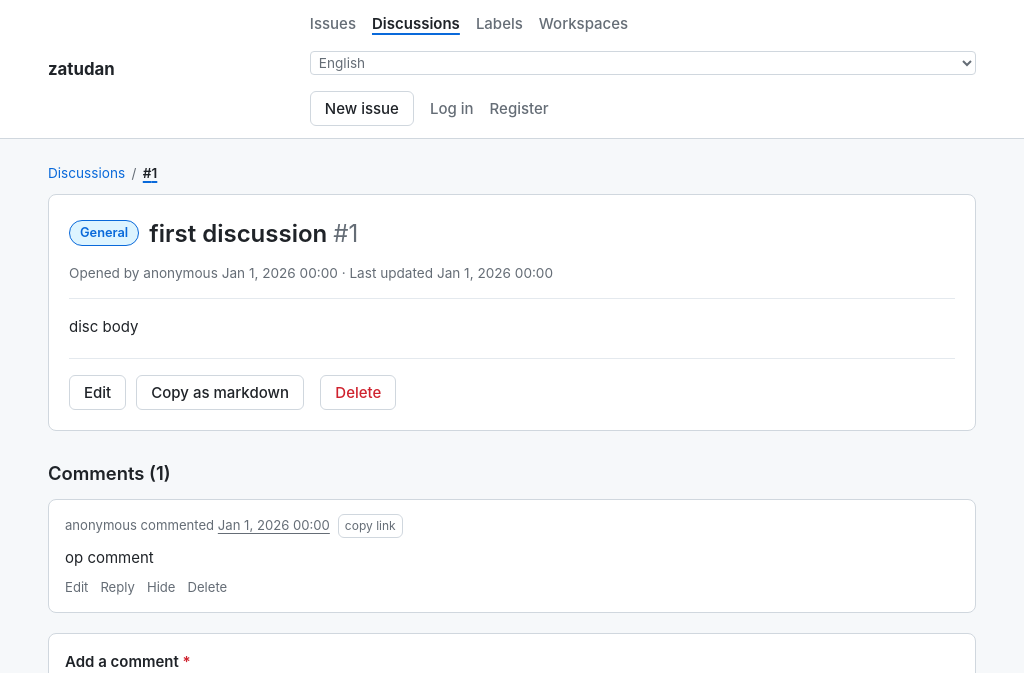
Test: route: /w/{ws}/discussions/{id} › guards a collapsed reply draft: declining keeps the text, accepting navigates
The width and height of the screenshot is (1024, 673).
Expected: the text "op comment" is shown, [65, 548, 154, 567]
Click the button "Reply". click: [118, 588]
box: [100, 578, 135, 598]
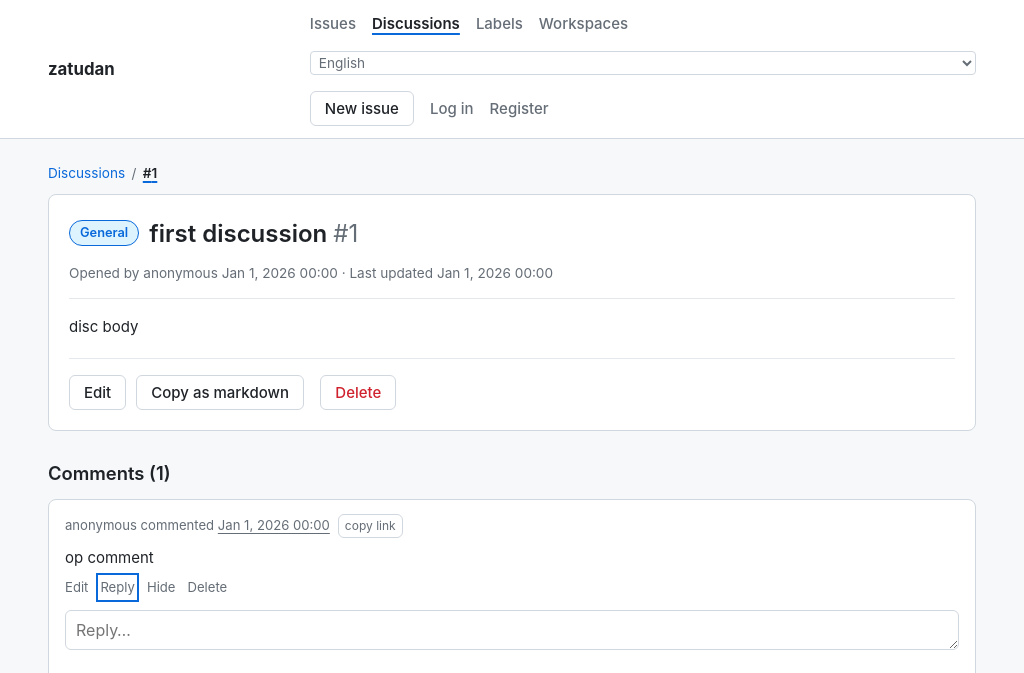
Type "collapsed draft" into the text box with placeholder "Reply…". click: [512, 630]
box: [65, 610, 959, 651]
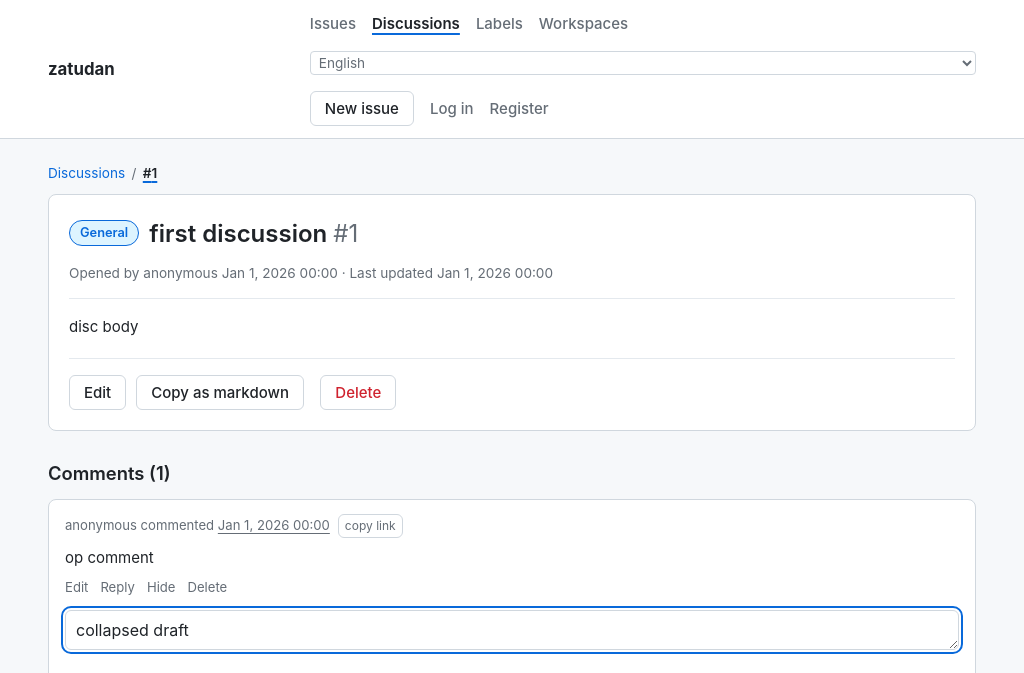
Click the 1st button "Reply". click: [118, 588]
box: [100, 578, 135, 598]
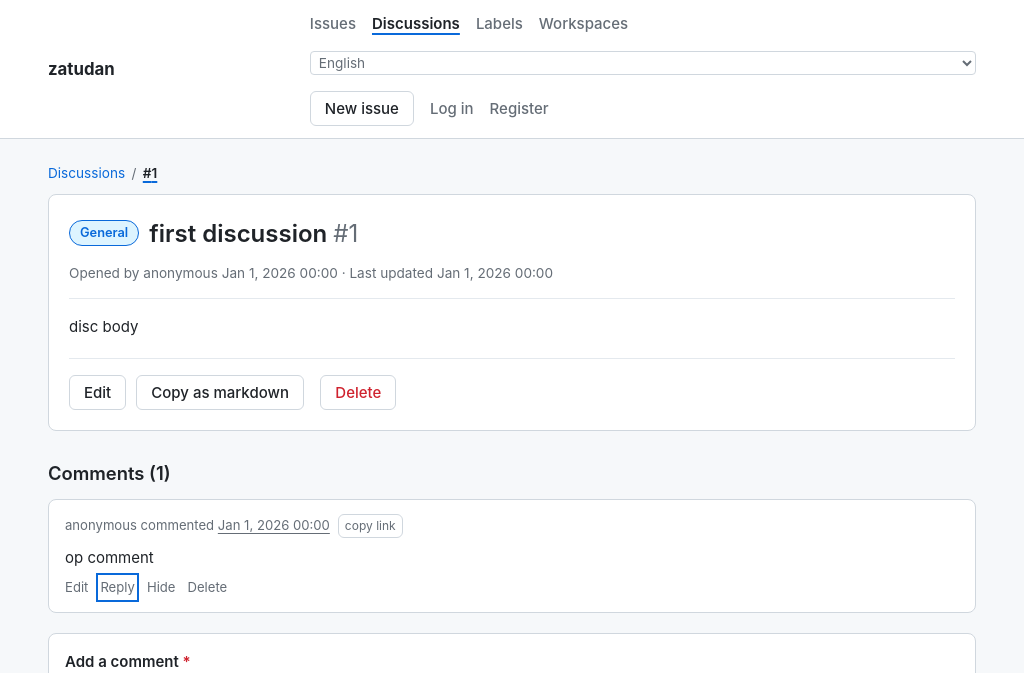
Click the link "Discussions" next to "Issues". click: [416, 24]
box: [372, 12, 460, 35]
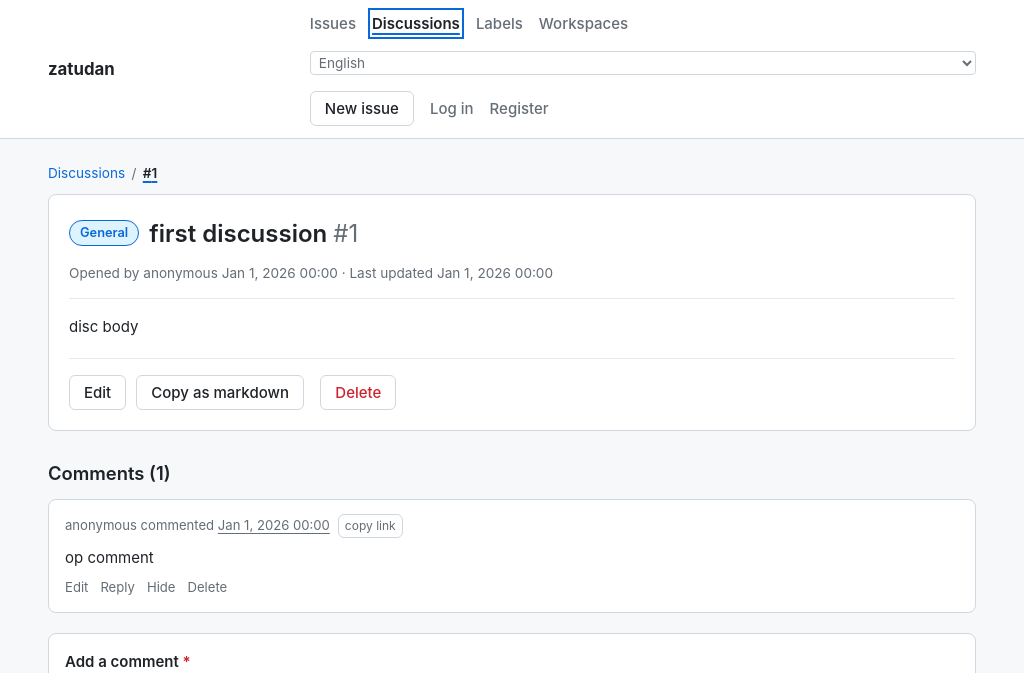
Click the button "Reply". click: [118, 588]
box: [100, 578, 135, 598]
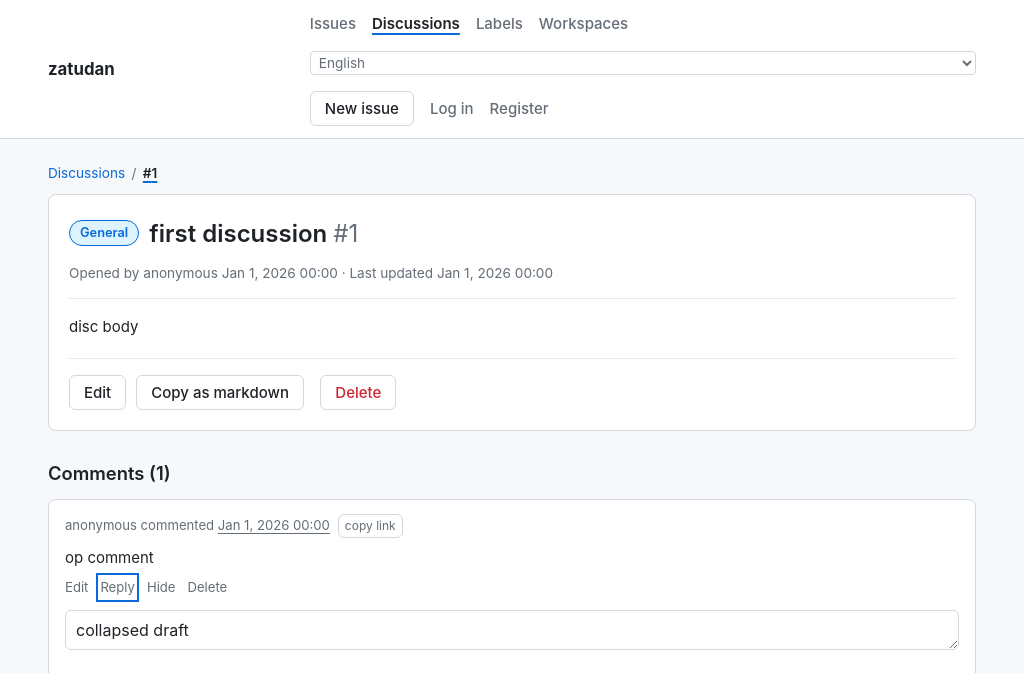
Now the text box with placeholder "Reply…" holds "collapsed draft", box [65, 610, 959, 651]
